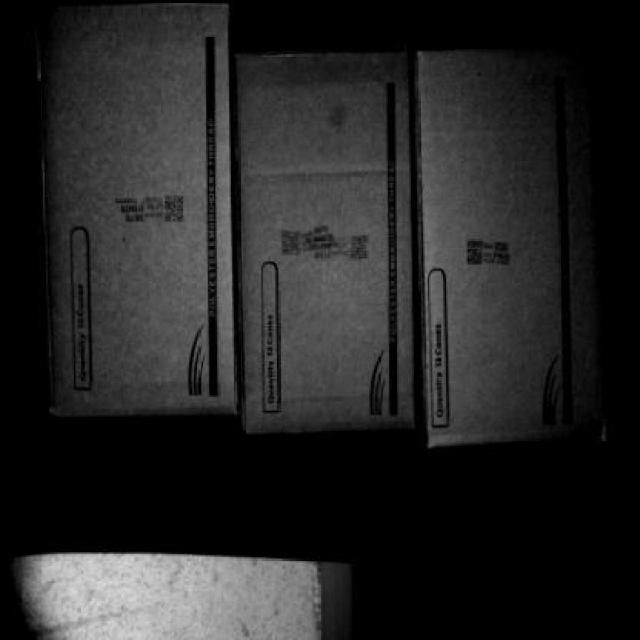cardboxes: (36, 8, 239, 412), (418, 45, 608, 440), (238, 46, 414, 429)
